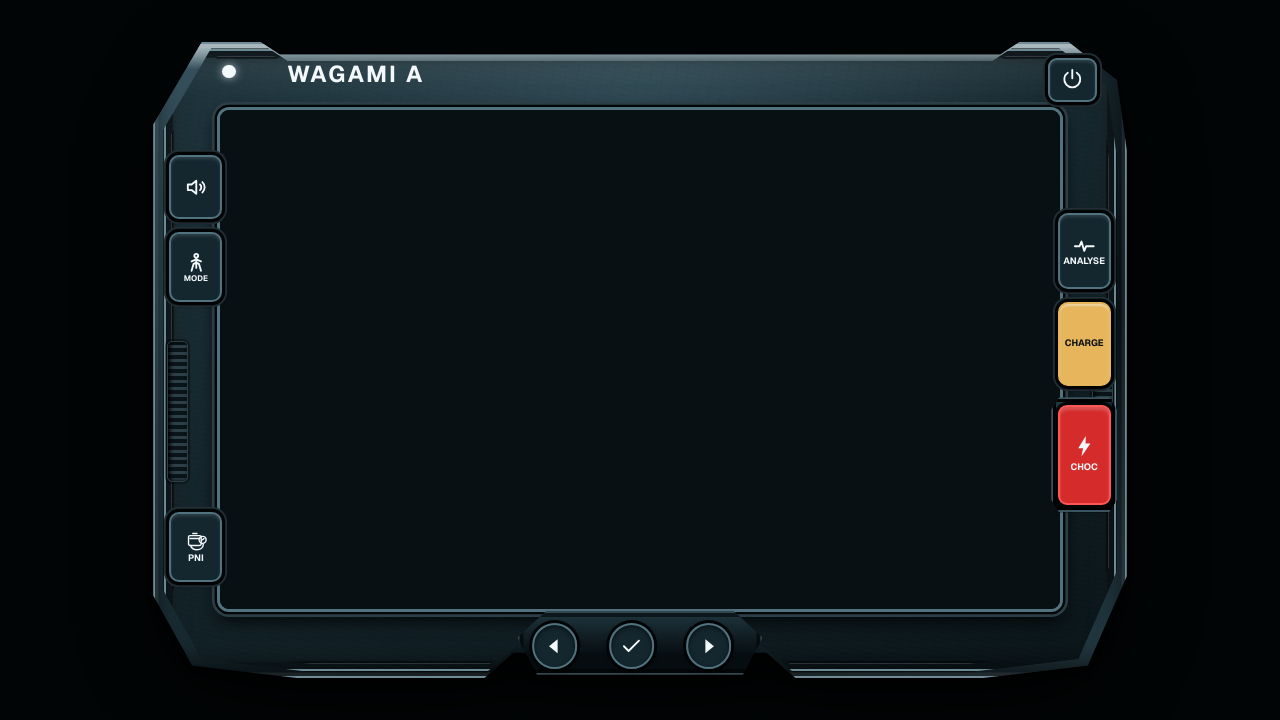
Test: Wagami A live Attempt integration › projects inline EtCO₂ timing, cancellation, and success-only logging
Click the button named "Alimentation WAGAMI A". click: [1072, 80]
box: [1048,58,1097,102]
Wait 3000 ms
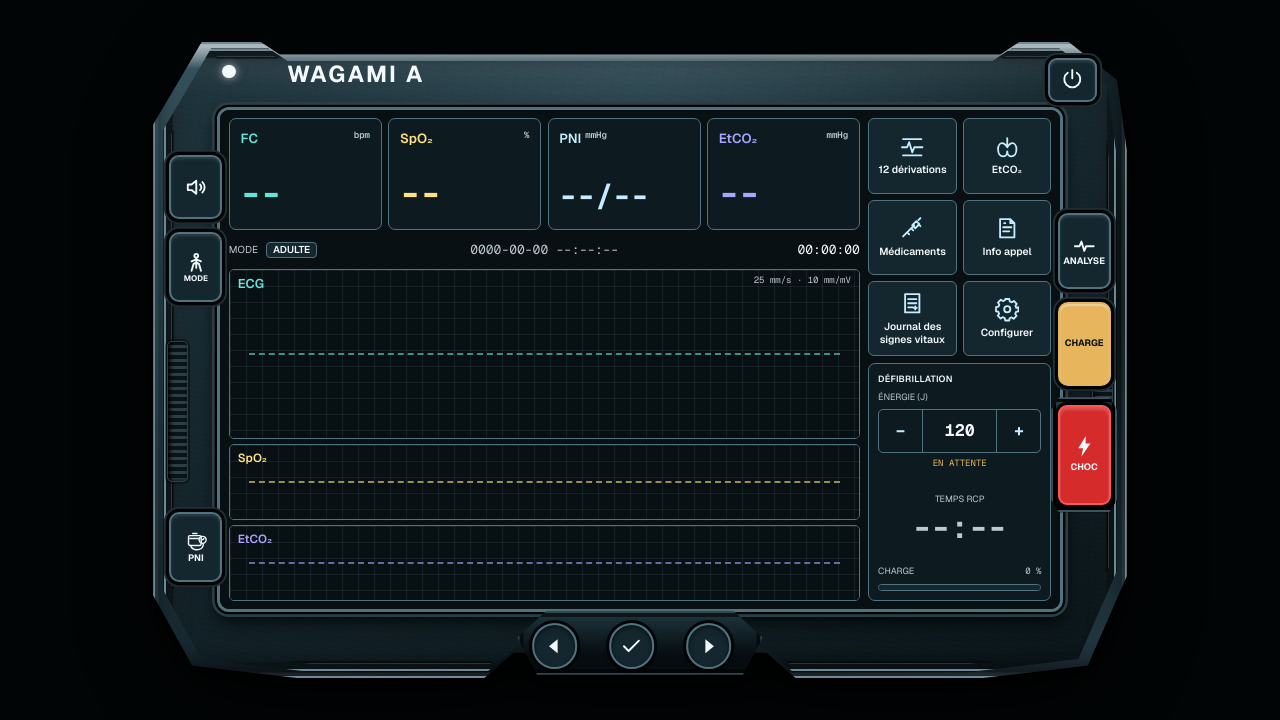
Check: the element with test id "wagami-a-vital-etco2" shows "--", box [719,171,760,215]
Click the button "EtCO₂". click: [1007, 156]
box: [963,118,1051,194]
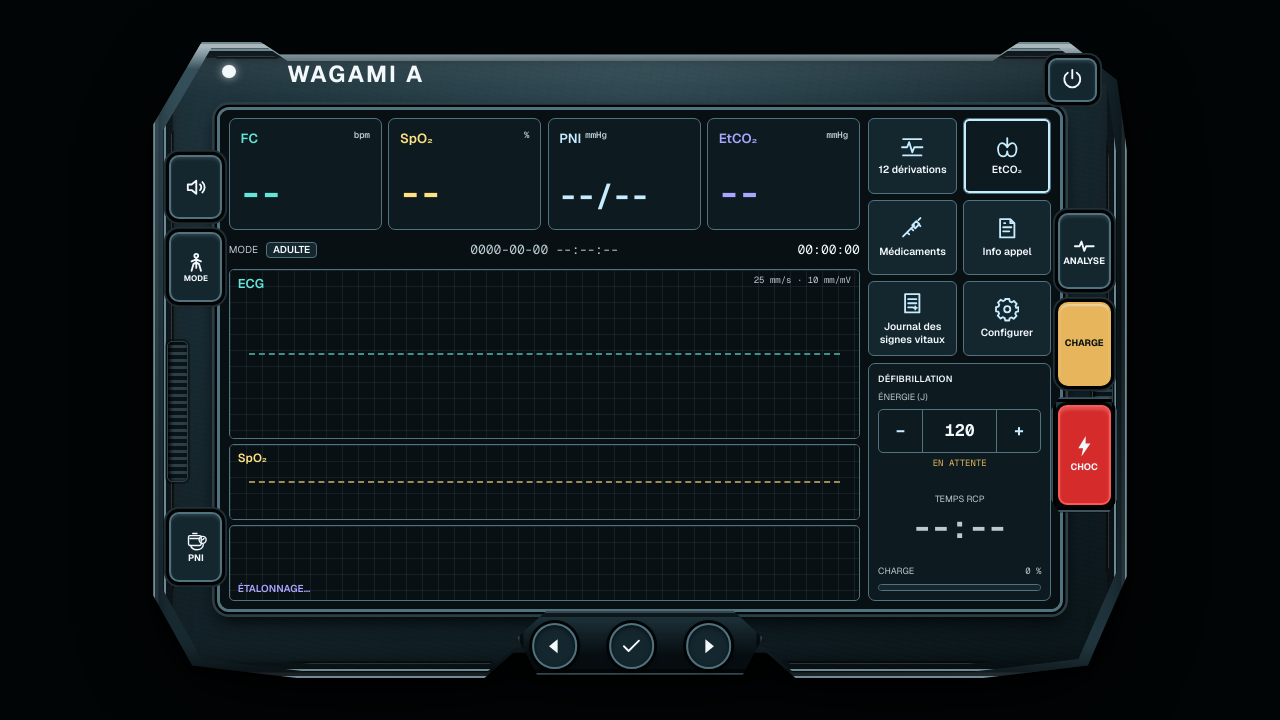
Click the button "EtCO₂". click: [1007, 156]
box: [963,118,1051,194]
Wait 3000 ms
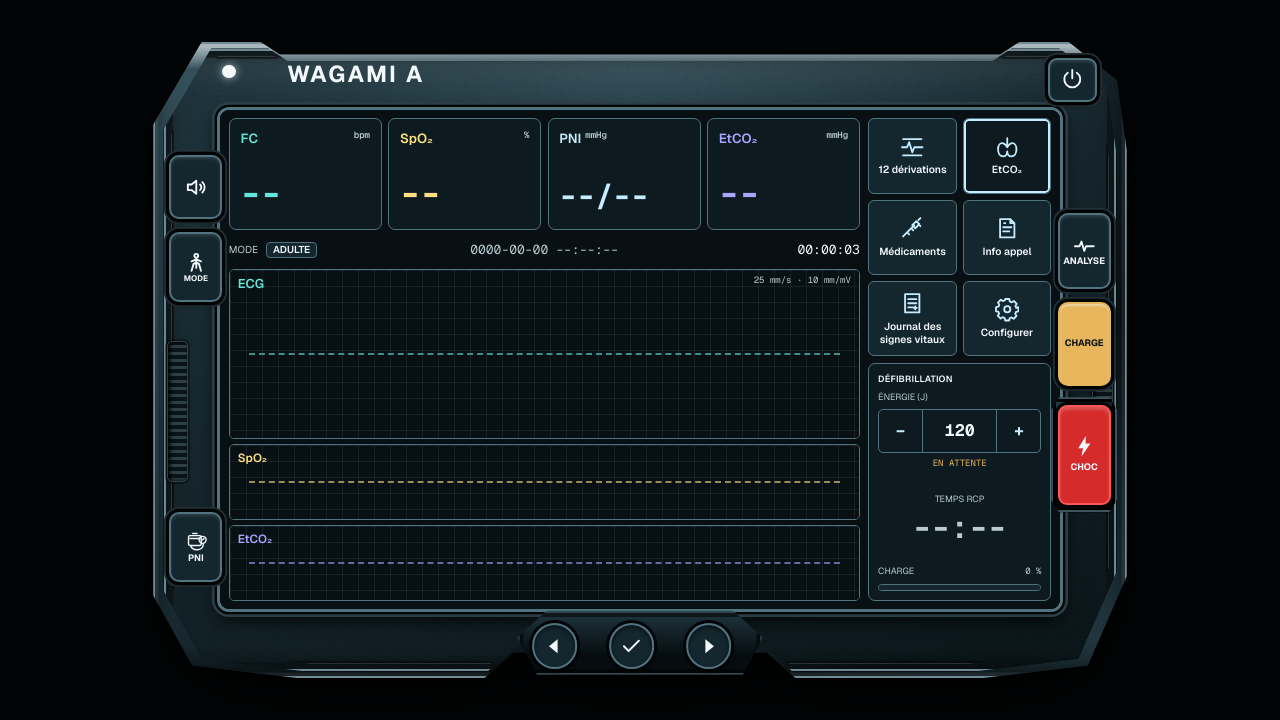
Click the button "EtCO₂". click: [1007, 156]
box: [963,118,1051,194]
Wait 45000 ms
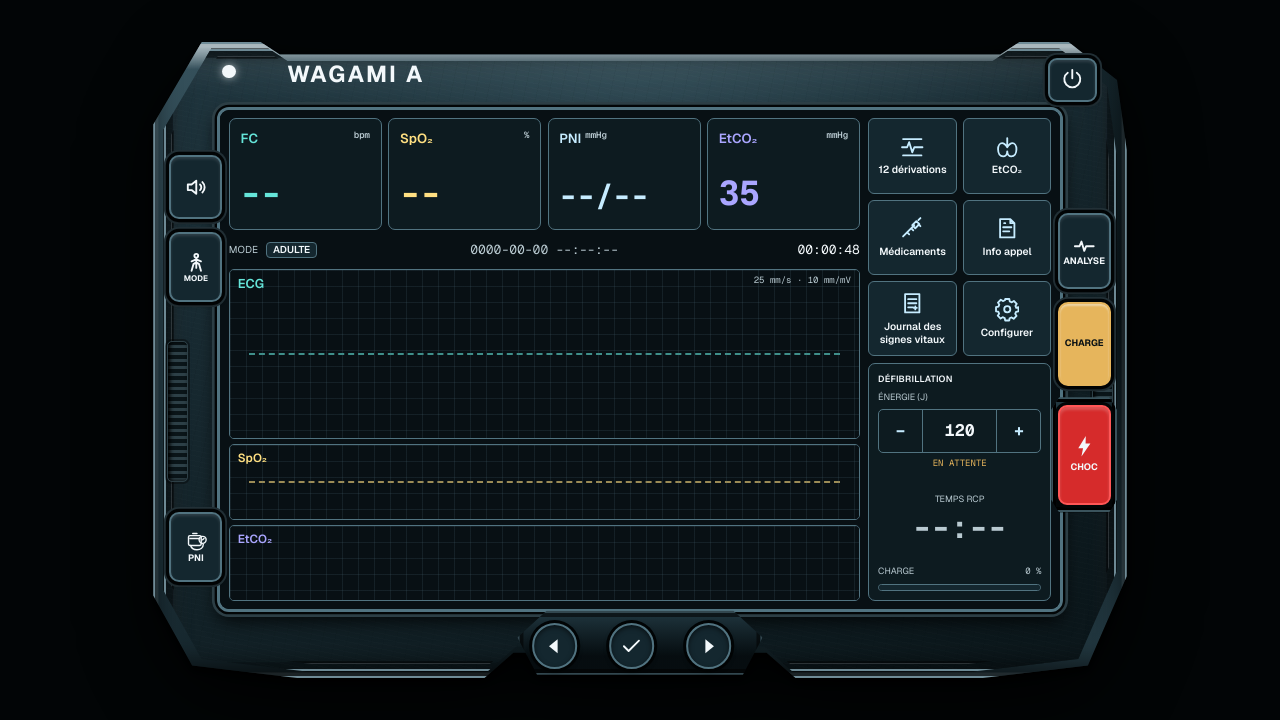
Check: the element with test id "wagami-a-vital-etco2" shows "35", box [719,171,760,215]
